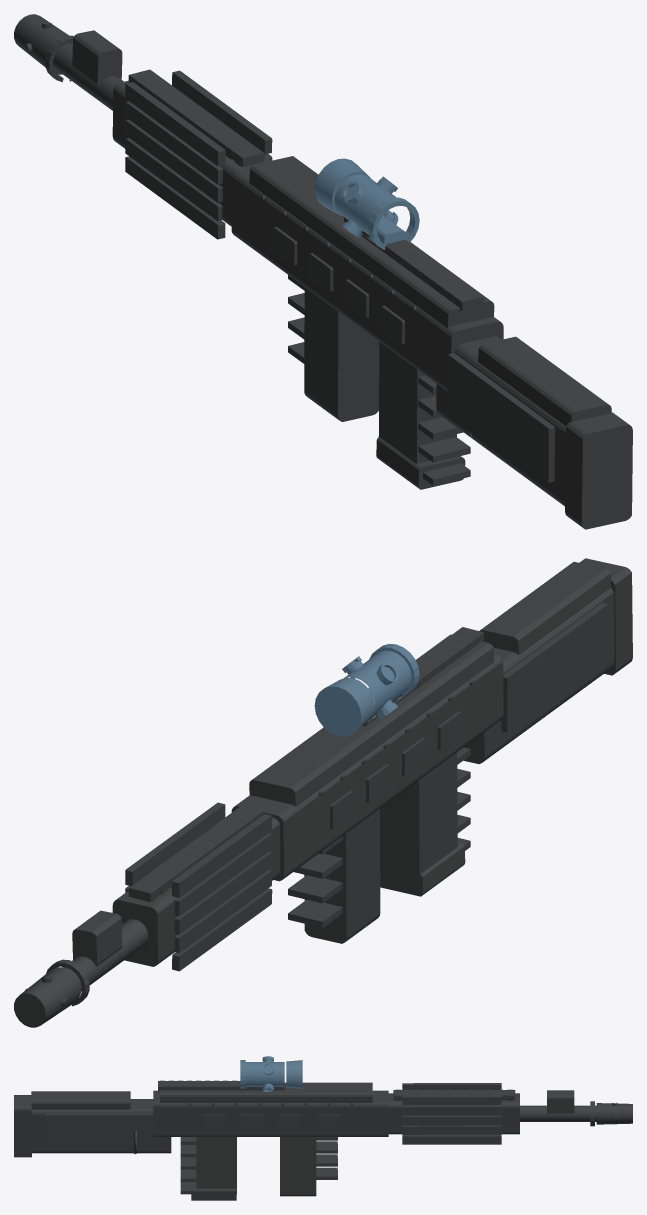
The model's file is weapon_drop.glb.
The picture shows the model from 3 angles, top to bottom: view 1: azimuth 30°, elevation 25°; view 2: azimuth 150°, elevation 25°; view 3: azimuth 270°, elevation 25°; orthographic projection. The views are drawn at different scales.
Visible parts, largest first — view 1: weapon_drop__weapon_drop, weapon_drop__optic; view 2: weapon_drop__weapon_drop, weapon_drop__optic; view 3: weapon_drop__weapon_drop, weapon_drop__optic.
Part boxes in pixels (bbox=[...]): weapon_drop__weapon_drop: bbox=[14, 14, 632, 529]; weapon_drop__optic: bbox=[314, 158, 419, 249]; weapon_drop__weapon_drop: bbox=[14, 558, 632, 1027]; weapon_drop__optic: bbox=[314, 644, 419, 736]; weapon_drop__weapon_drop: bbox=[14, 1080, 632, 1200]; weapon_drop__optic: bbox=[240, 1056, 302, 1091].
Size of the model in its own units: 0.1054 by 0.3311 by 1.37.
